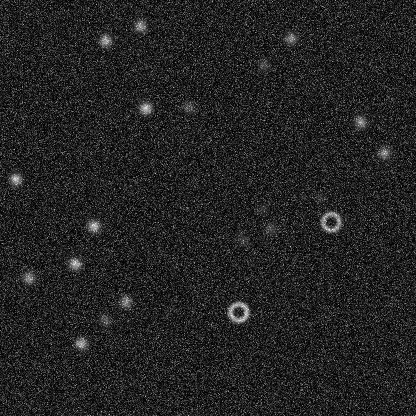Ring: (318, 209, 342, 233), (226, 300, 250, 324)
Spot: (311, 190, 327, 206), (254, 200, 270, 216), (97, 32, 113, 48), (85, 217, 101, 233), (73, 335, 89, 351), (262, 221, 278, 237), (132, 17, 148, 33), (255, 56, 271, 72), (96, 312, 112, 328), (66, 255, 82, 271), (282, 30, 298, 46), (234, 231, 250, 247), (180, 99, 196, 115), (352, 113, 368, 129), (137, 100, 153, 116), (117, 293, 133, 309), (376, 144, 392, 160), (7, 170, 23, 186), (20, 269, 36, 285)
